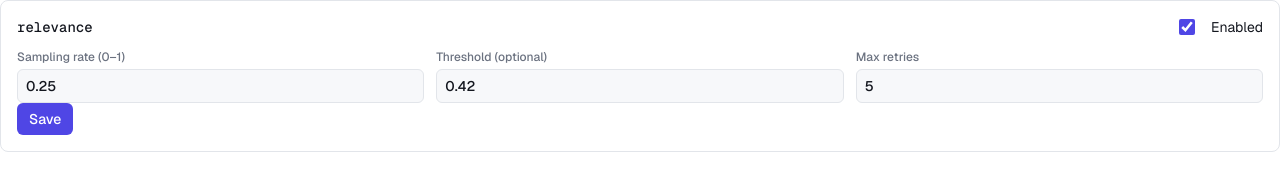
Test: EvaluatorConfigForm › disables the Save button and ignores a second submit while a save is in flight
The width and height of the screenshot is (1280, 169).
Click the button "Save". click: (45, 119)
box: [17, 103, 73, 135]
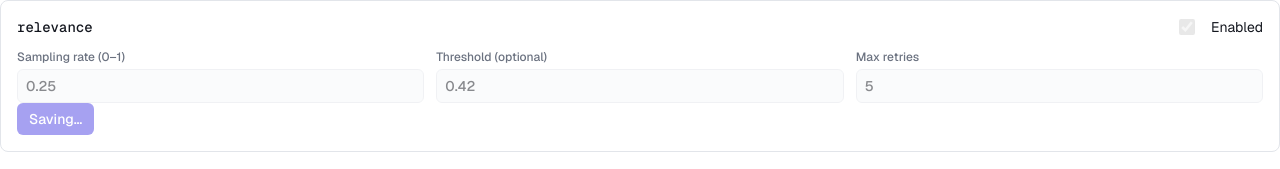
Expected: the button named "save" is disabled
// A second submit while still saving must not issue a second request.
Click the button named "save". click: (56, 119)
box: [17, 103, 94, 135]
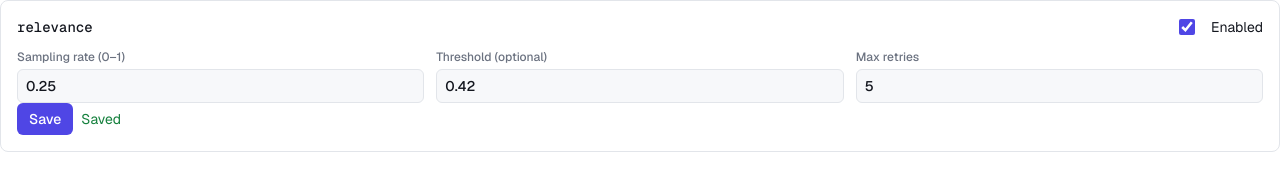
Expected: the button "Save" is enabled, [17, 103, 73, 135]
